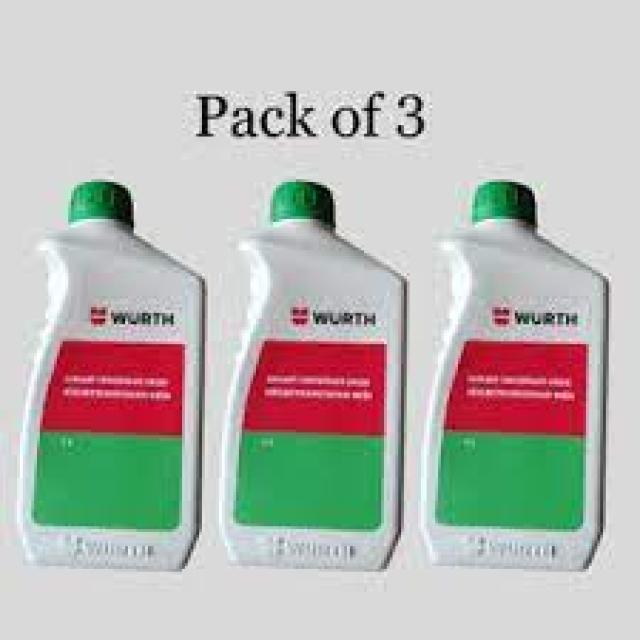coolant: (418, 177, 614, 576), (17, 175, 201, 577), (222, 167, 404, 572)
